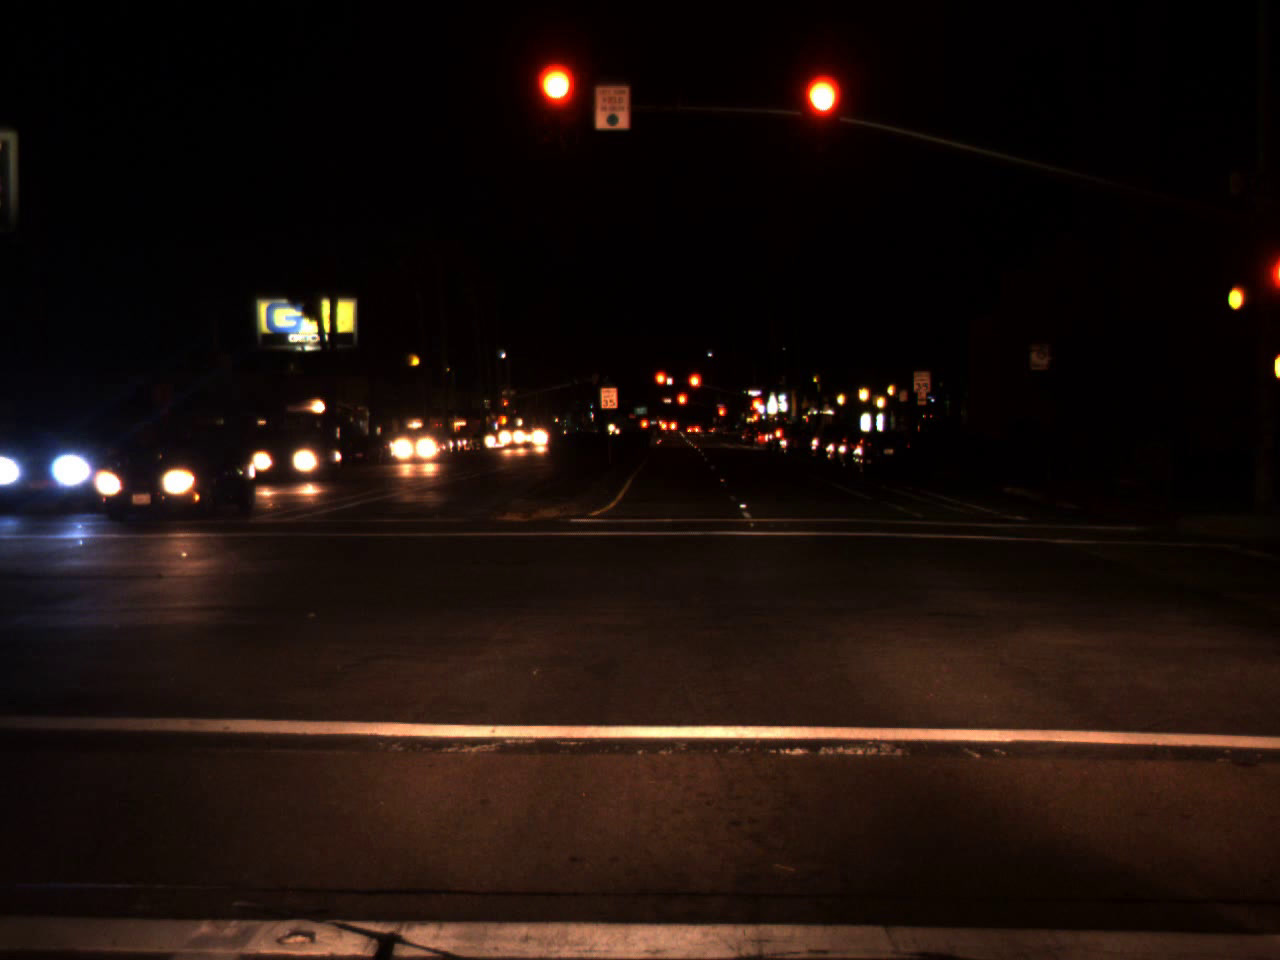stop: (538, 65, 578, 143), (802, 75, 841, 153), (686, 371, 702, 403), (748, 395, 764, 427), (653, 369, 668, 401), (676, 391, 688, 418), (717, 406, 727, 427), (503, 398, 509, 414)
